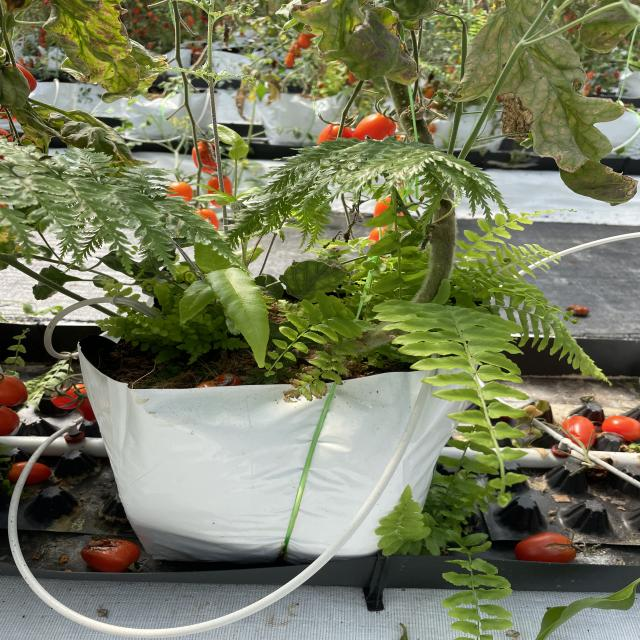Obstacle: (396, 355, 447, 445), (85, 299, 167, 323)
Soilbag: (78, 352, 455, 569)
plant: (17, 19, 533, 356)
